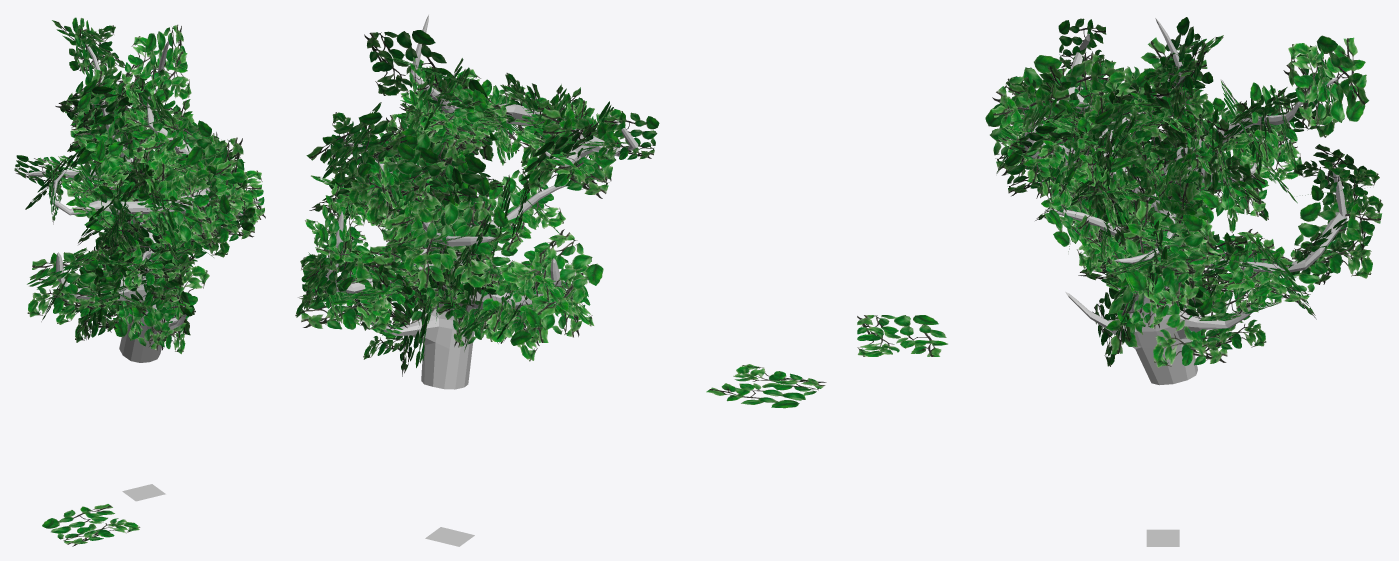
File: Arbusto.fbx
The picture shows the model from 3 angles, left to right: view 1: azimuth 30°, elevation 25°; view 2: azimuth 150°, elevation 25°; view 3: azimuth 270°, elevation 25°; orthographic projection. The views are drawn at different scales.
Parts seen in each view (by area): view 1: Arbol, Arbol|ColorHojasAlbedo|Dupli|198, Arbol|ColorHojasAlbedo|Dupli|52, ColorHojasAlbedo, Arbol|ColorHojasAlbedo|Dupli|135, Arbol|ColorHojasAlbedo|Dupli|139, Arbol|ColorHojasAlbedo|Dupli|156, Arbol|ColorHojasAlbedo|Dupli|84, Arbol|ColorHojasAlbedo|Dupli|172, Arbol|ColorHojasAlbedo|Dupli|86, Arbol|ColorHojasAlbedo|Dupli|47, Arbol|ColorHojasAlbedo|Dupli|105 (+58 smaller); view 2: Arbol, Arbol|ColorHojasAlbedo|Dupli|101, Arbol|ColorHojasAlbedo|Dupli|199, Arbol|ColorHojasAlbedo|Dupli|135, Arbol|ColorHojasAlbedo|Dupli|140, ColorHojasAlbedo, Arbol|ColorHojasAlbedo|Dupli|26, Arbol|ColorHojasAlbedo|Dupli|106, Arbol|ColorHojasAlbedo|Dupli|79, Arbol|ColorHojasAlbedo|Dupli|158, Arbol|ColorHojasAlbedo|Dupli|24, Arbol|ColorHojasAlbedo|Dupli|191 (+29 smaller); view 3: Arbol, Arbol|ColorHojasAlbedo|Dupli|25, Arbol|ColorHojasAlbedo|Dupli|150, Arbol|ColorHojasAlbedo|Dupli|115, ColorHojasAlbedo, Arbol|ColorHojasAlbedo|Dupli|171, Arbol|ColorHojasAlbedo|Dupli|113, Arbol|ColorHojasAlbedo|Dupli|26, Arbol|ColorHojasAlbedo|Dupli|135, Arbol|ColorHojasAlbedo|Dupli|169, Arbol|ColorHojasAlbedo|Dupli|18, Arbol|ColorHojasAlbedo|Dupli|154 (+48 smaller).
Part boxes in pixels (x1,y1,x2,y2): Arbol: (26,40,260,362); Arbol|ColorHojasAlbedo|Dupli|198: (27,252,98,317); Arbol|ColorHojasAlbedo|Dupli|52: (145,169,218,245); ColorHojasAlbedo: (42,504,140,546); Arbol|ColorHojasAlbedo|Dupli|135: (145,24,191,108); Arbol|ColorHojasAlbedo|Dupli|139: (119,36,187,100); Arbol|ColorHojasAlbedo|Dupli|156: (117,237,180,289); Arbol|ColorHojasAlbedo|Dupli|84: (182,137,245,210); Arbol|ColorHojasAlbedo|Dupli|172: (113,285,184,350); Arbol|ColorHojasAlbedo|Dupli|86: (179,160,254,236); Arbol|ColorHojasAlbedo|Dupli|47: (148,163,213,235); Arbol|ColorHojasAlbedo|Dupli|105: (66,164,147,230); Arbol: (325,15,638,389); Arbol|ColorHojasAlbedo|Dupli|101: (411,201,491,287); Arbol|ColorHojasAlbedo|Dupli|199: (499,229,603,319); Arbol|ColorHojasAlbedo|Dupli|135: (364,30,450,95); Arbol|ColorHojasAlbedo|Dupli|140: (301,252,391,329); ColorHojasAlbedo: (706,364,826,408); Arbol|ColorHojasAlbedo|Dupli|26: (306,112,407,185); Arbol|ColorHojasAlbedo|Dupli|106: (526,108,621,198); Arbol|ColorHojasAlbedo|Dupli|79: (373,127,461,222); Arbol|ColorHojasAlbedo|Dupli|158: (488,166,565,242); Arbol|ColorHojasAlbedo|Dupli|24: (349,139,422,207); Arbol|ColorHojasAlbedo|Dupli|191: (524,252,589,337); Arbol: (1024,18,1347,385); Arbol|ColorHojasAlbedo|Dupli|25: (1288,37,1366,126); Arbol|ColorHojasAlbedo|Dupli|150: (1292,201,1382,278); Arbol|ColorHojasAlbedo|Dupli|115: (1125,201,1212,305); ColorHojasAlbedo: (857,315,947,356); Arbol|ColorHojasAlbedo|Dupli|171: (1149,288,1227,367); Arbol|ColorHojasAlbedo|Dupli|113: (1123,214,1210,295); Arbol|ColorHojasAlbedo|Dupli|26: (1283,35,1369,137); Arbol|ColorHojasAlbedo|Dupli|135: (1154,17,1207,119); Arbol|ColorHojasAlbedo|Dupli|169: (1199,293,1266,351); Arbol|ColorHojasAlbedo|Dupli|18: (1250,82,1301,168); Arbol|ColorHojasAlbedo|Dupli|154: (1311,152,1379,217).
Size of the model in its own units: 1336 by 1775 by 1591.
